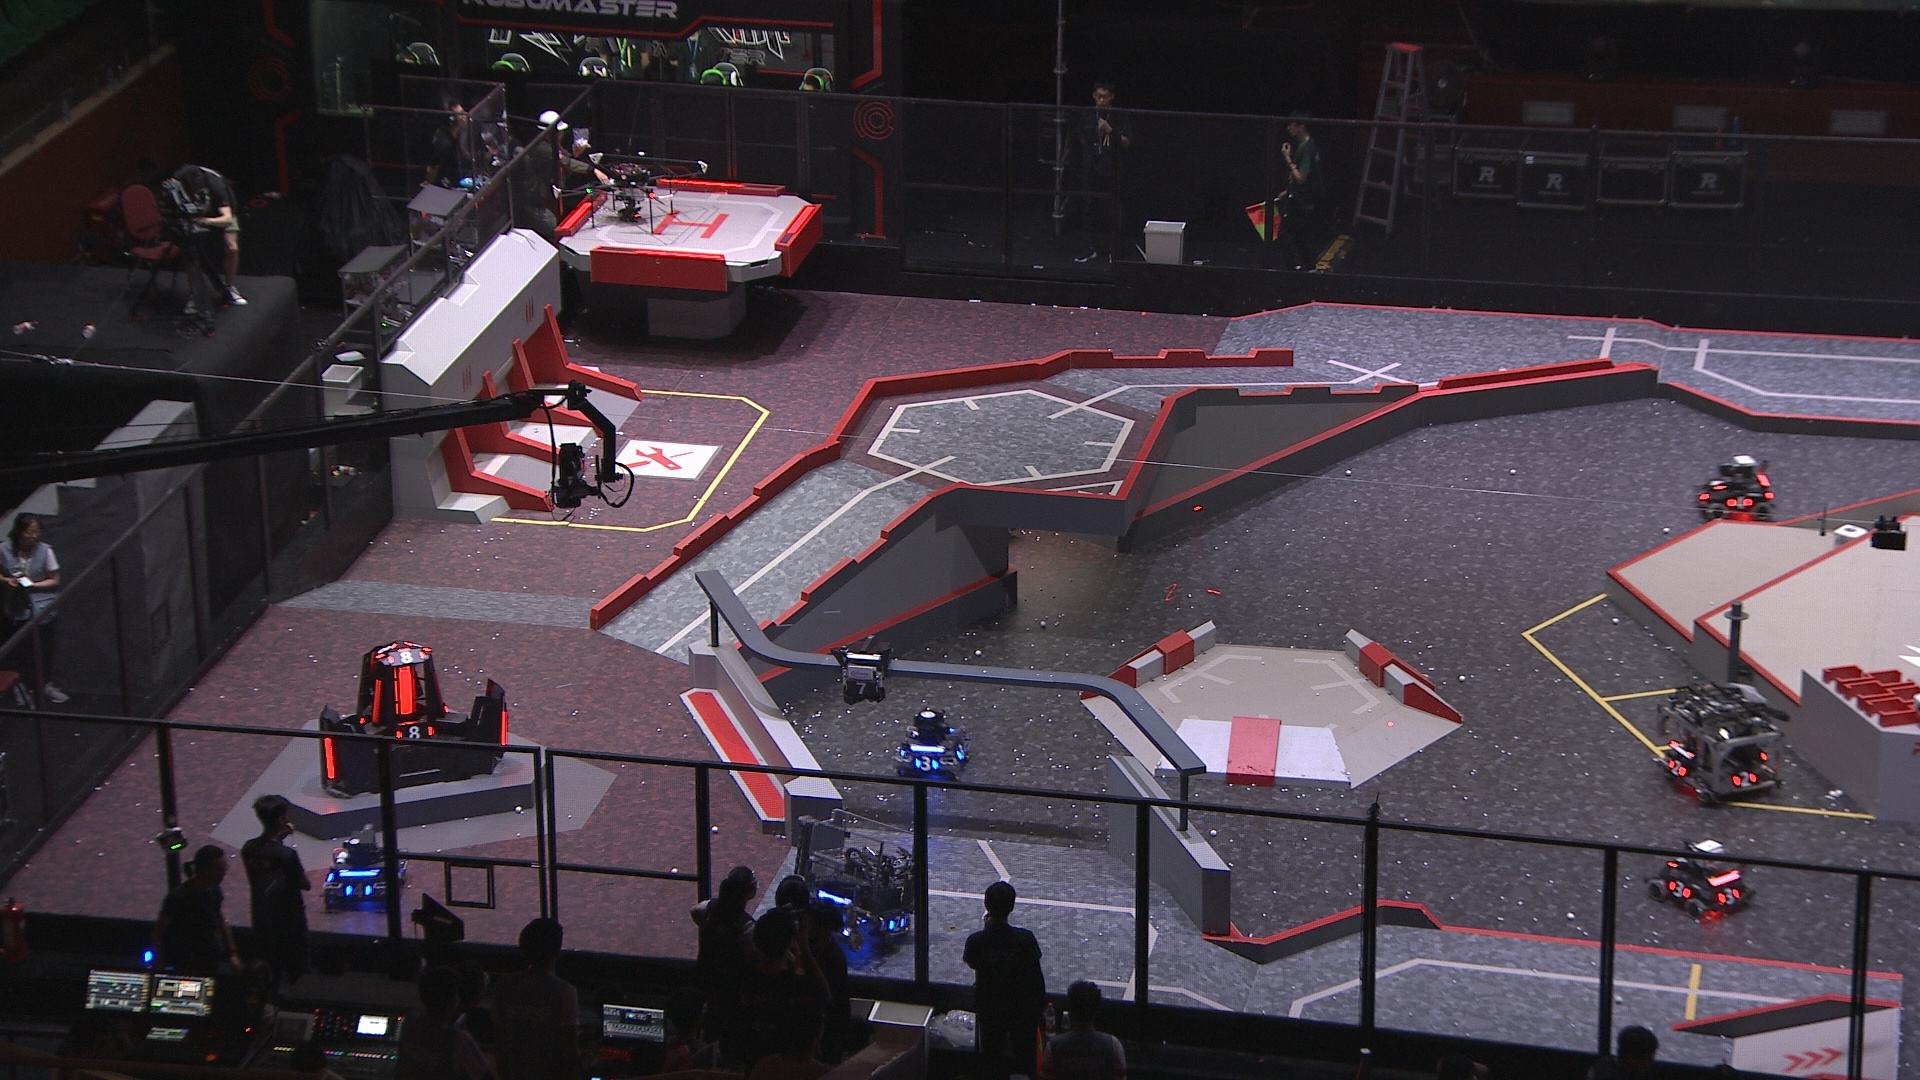armor: (392, 665, 415, 717), (320, 735, 338, 782), (386, 650, 429, 665), (394, 725, 433, 741), (371, 678, 384, 723), (1665, 880, 1693, 901), (845, 680, 877, 698), (1731, 770, 1760, 789), (1716, 887, 1743, 906), (913, 754, 940, 773), (345, 882, 373, 901), (1726, 495, 1755, 512), (885, 913, 906, 935), (498, 709, 510, 749), (1664, 760, 1687, 778), (1706, 476, 1727, 493), (953, 741, 969, 761)
base: (319, 640, 513, 796)
car: (789, 806, 926, 953), (1658, 679, 1787, 808), (1642, 839, 1756, 920), (319, 823, 409, 910), (891, 708, 972, 783), (1693, 452, 1778, 524)
watcher: (829, 636, 891, 705)
